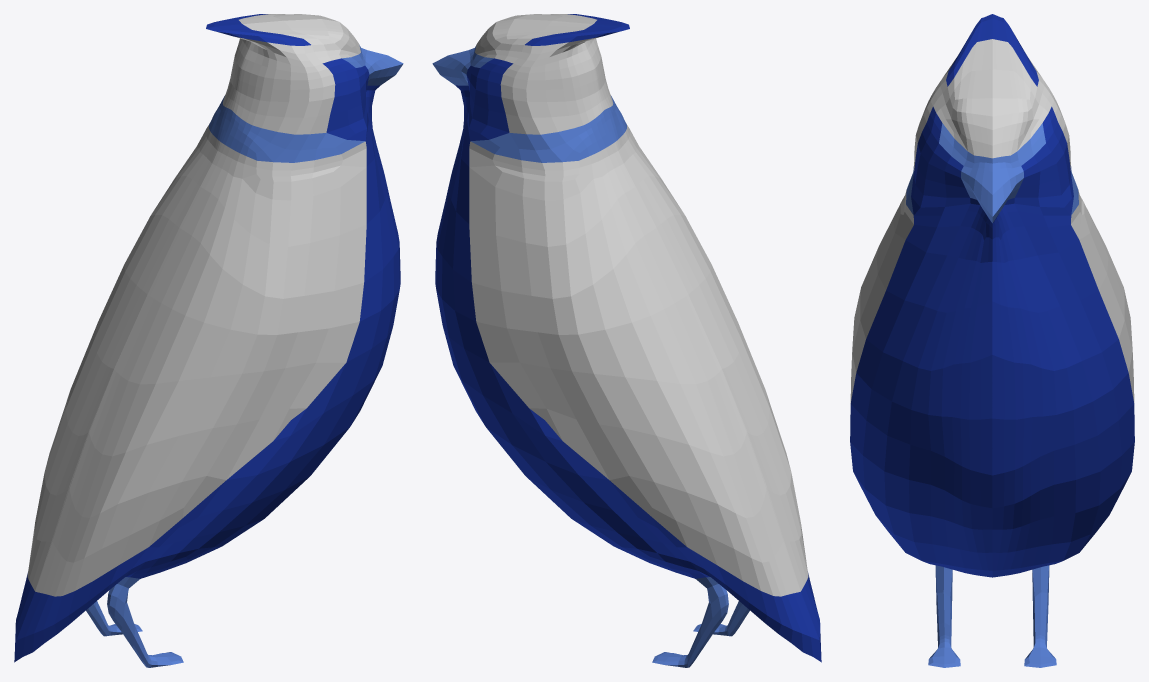
Rendered from bluejay try3.fbx.
3 views of the same model, side by side, from view 1: azimuth 30°, elevation 25°; view 2: azimuth 150°, elevation 25°; view 3: azimuth 270°, elevation 25° (orthographic). The views are drawn at different scales.
Visible parts, largest first — view 1: Cube; view 2: Cube; view 3: Cube.
Part boxes in pixels (<box>): Cube: <box>14,14,403,667</box>; Cube: <box>432,14,821,667</box>; Cube: <box>850,14,1134,667</box>.
Bounding box in the file's own units: 271 × 402 × 152.
